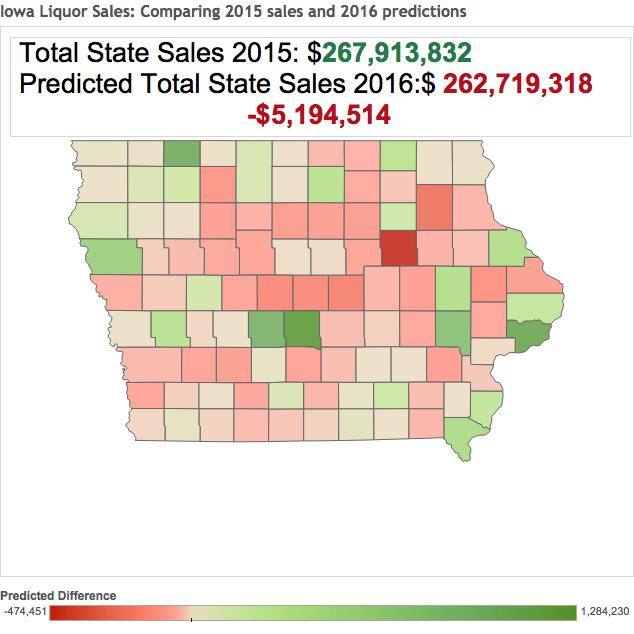

The dashboard page shown, as its layout file describes it:
{"tool":"tableau","page":{"name":"Dashboard 1","canvas":[1000,800],"ordinal":0},"visuals":[{"type":"worksheet","title":"Iowa Liquor Sales: Comparing 2015 sales and 2016 predictions","mark":"Automatic","box":[0,0,840,800]},{"type":"legend","title":"Iowa Liquor Sales: Comparing 2015 sales and 2016 predictions","param":"[textscan.0fdxuxk0tk4cpe1159muw1g1odut].[sum:predicted_difference:qk]","box":[840,0,160,62]}]}

Visuals, with their boxes on the page's 1000x800 design canvas (x1, y1, x2, y2). These are canvas units, not pixel positions in the 634x634 screenshot, which may show the page scaled, cropped or inside an application window:
"Iowa Liquor Sales: Comparing 2015 sales and 2016 predictions" worksheet: {"x1": 0, "y1": 0, "x2": 840, "y2": 800}
"Iowa Liquor Sales: Comparing 2015 sales and 2016 predictions" legend: {"x1": 840, "y1": 0, "x2": 1000, "y2": 62}
